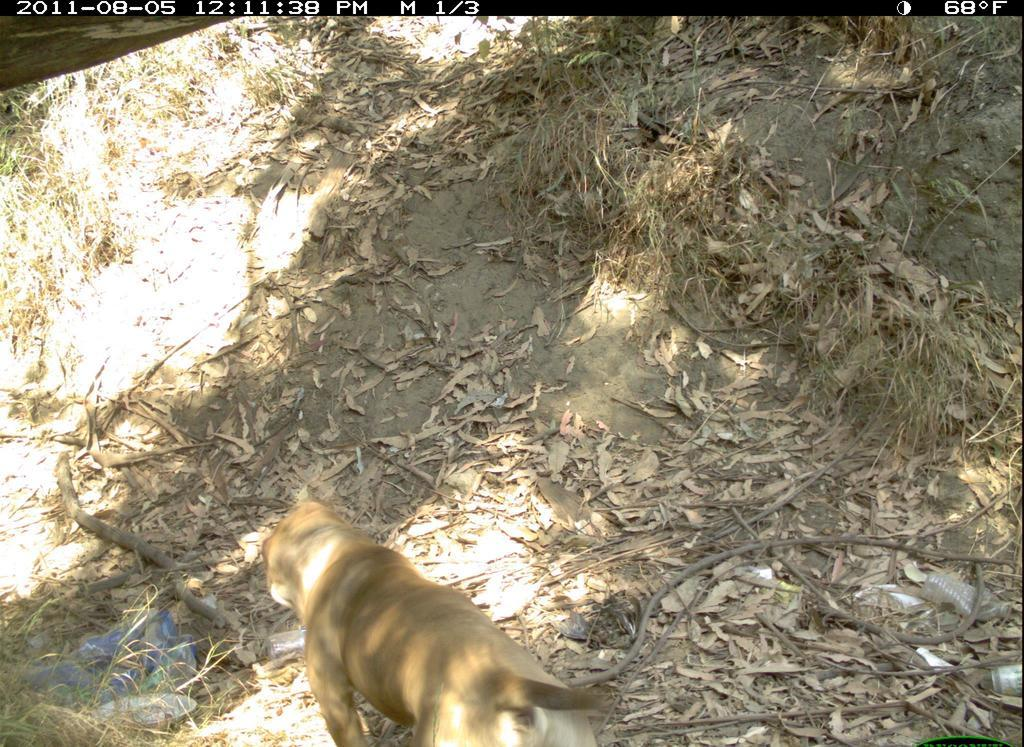dog: (232, 497, 615, 747)
